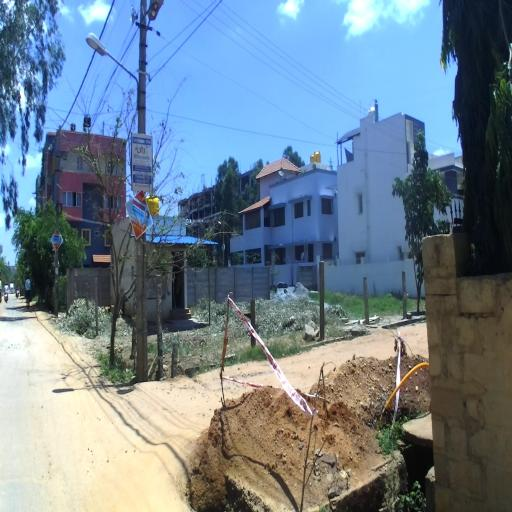street_light_0: (86, 32, 146, 111)
